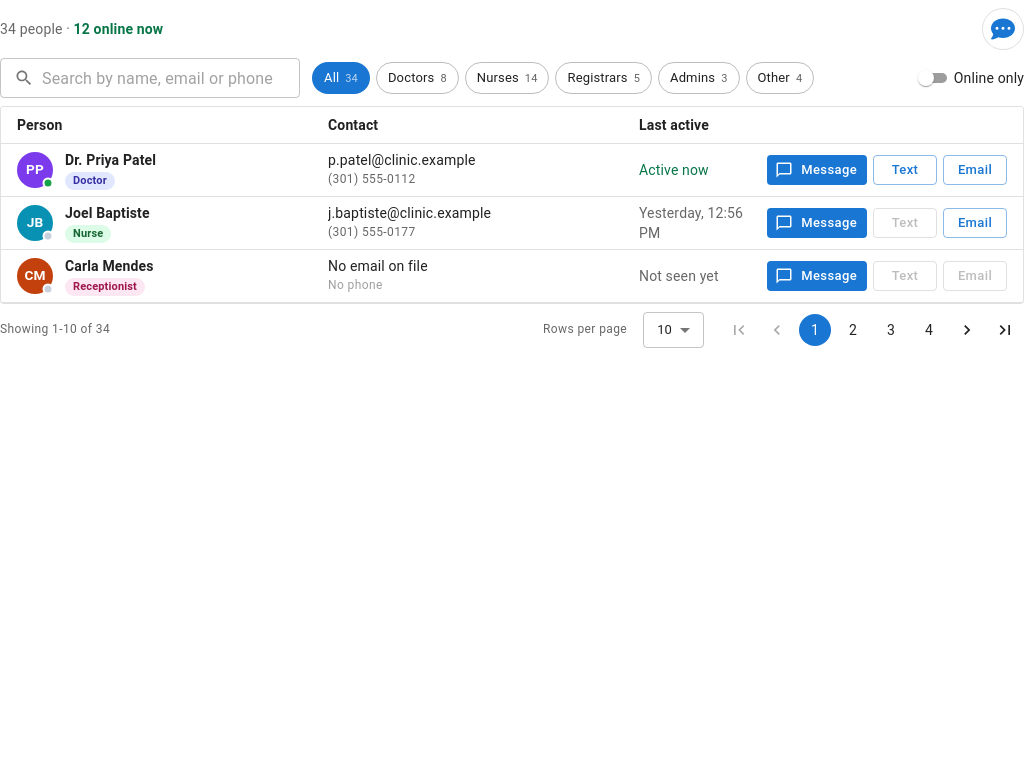
Test: details panel › explains why texting is off
Click the row named "Details for Joel Baptiste".
click(512, 224)  # box [1,197,1023,250]
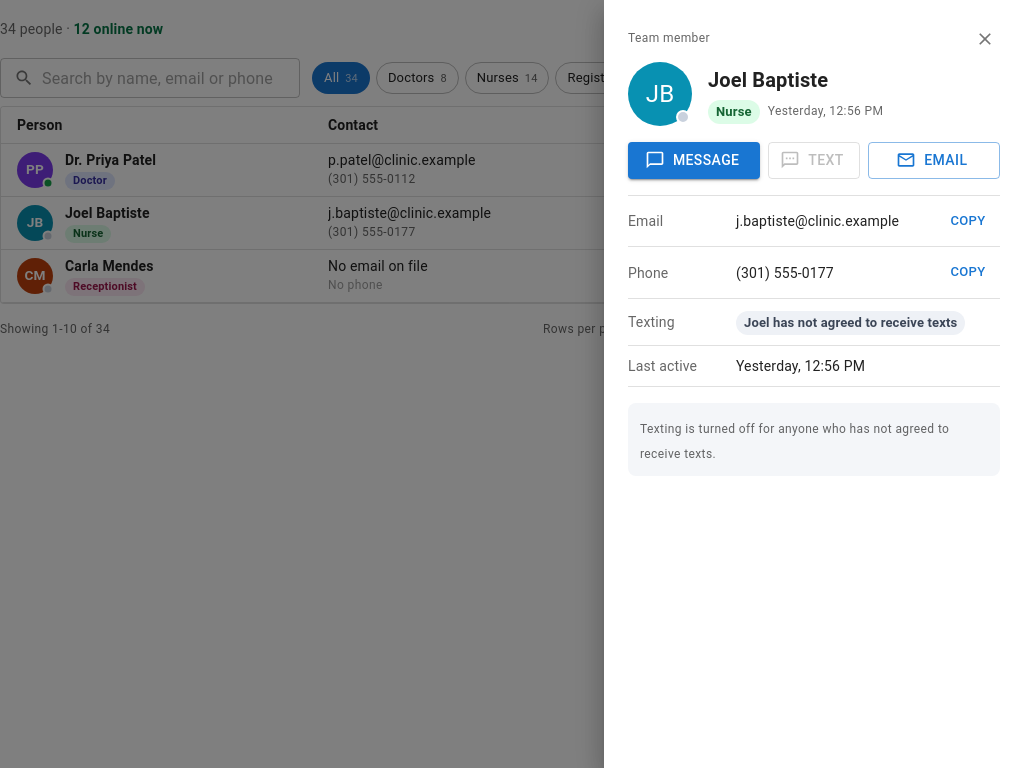
Now the text "Joel has not agreed to receive texts" is shown, box [736,313,965,332]
Now the button "Text" is disabled, box [768,142,860,178]
